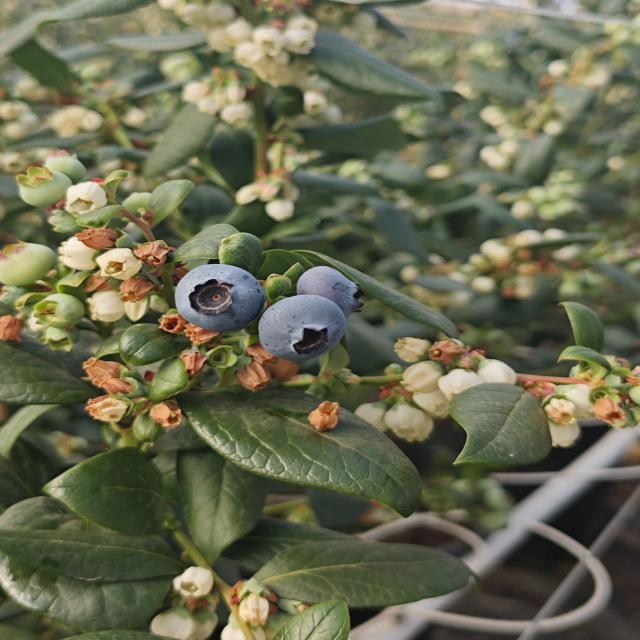ripe: (172, 262, 266, 334), (256, 293, 349, 364), (293, 264, 366, 318)
